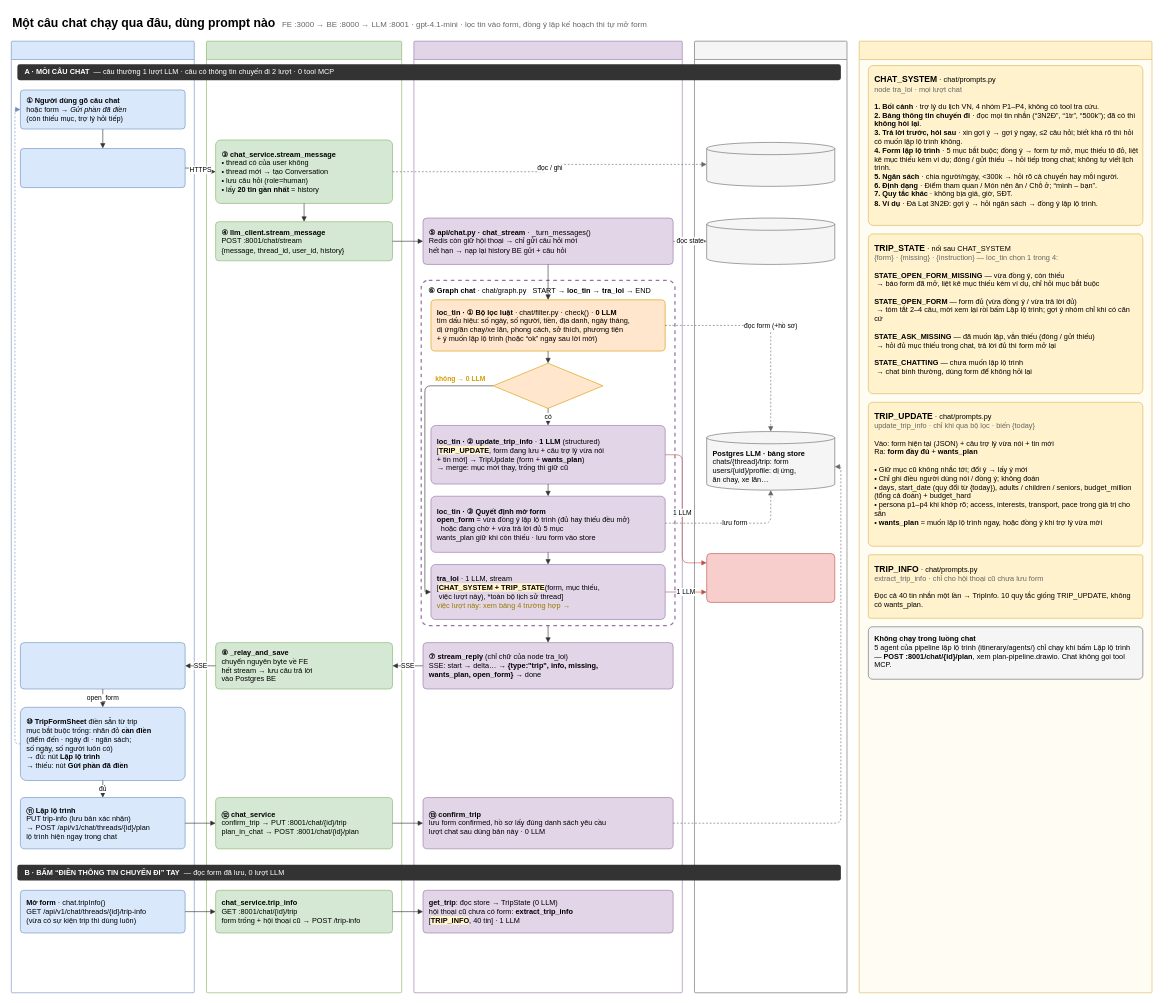
This 1169x1003 diagram has some shape labels left out. The shapes that lost their labels are listed below. From the top down, each one's box as (x1, y1, x2, y2) in pixels, then its label:
(20, 148, 185, 188): ② chat.stream() POST /api/v1/chat/stream Bearer token · đọc SSE bằng fetch
(706, 142, 835, 186): Postgres BE conversations, messages (lịch sử hiển thị)
(706, 217, 835, 264): Redis checkpointer (state graph) agent_log (/events)
(493, 363, 603, 408): Qua bộ lọc?
(11, 41, 194, 993): FRONTEND · Next.js
(206, 41, 402, 993): BACKEND · FastAPI
(413, 41, 682, 993): LLM SERVICE · LangGraph
(694, 41, 847, 993): LƯU TRỮ & MODEL
(859, 41, 1152, 993): PROMPT ĐANG CHẠY
(706, 553, 835, 602): OpenAI gpt-4.1-mini
(20, 642, 185, 689): ⑨ Trang chat hiện chữ dần · nhận sự kiện trip open_form = true → tự mở form
